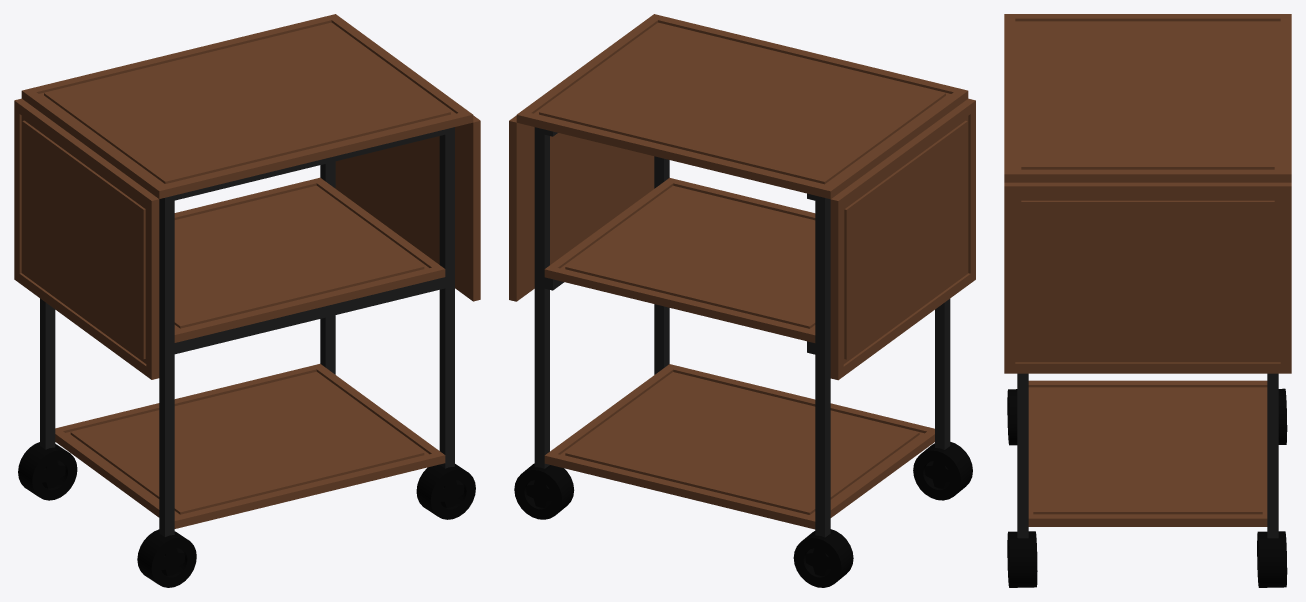
The model's file is Trolley_08.glb.
The picture shows the model from 3 angles, left to right: view 1: azimuth 30°, elevation 25°; view 2: azimuth 150°, elevation 25°; view 3: azimuth 270°, elevation 25°; orthographic projection. The views are drawn at different scales.
Visible parts, largest first — view 1: Mesh_Trolley_08; view 2: Mesh_Trolley_08; view 3: Mesh_Trolley_08.
Boxes of the visible parts, x1=… form: Mesh_Trolley_08: x1=14, y1=14, x2=480, y2=587; Mesh_Trolley_08: x1=509, y1=14, x2=975, y2=587; Mesh_Trolley_08: x1=1004, y1=14, x2=1291, y2=587.
Bounding box in the file's own units: 0.608 × 0.7093 × 0.44.
Materials: 1 (1 with a texture image).
